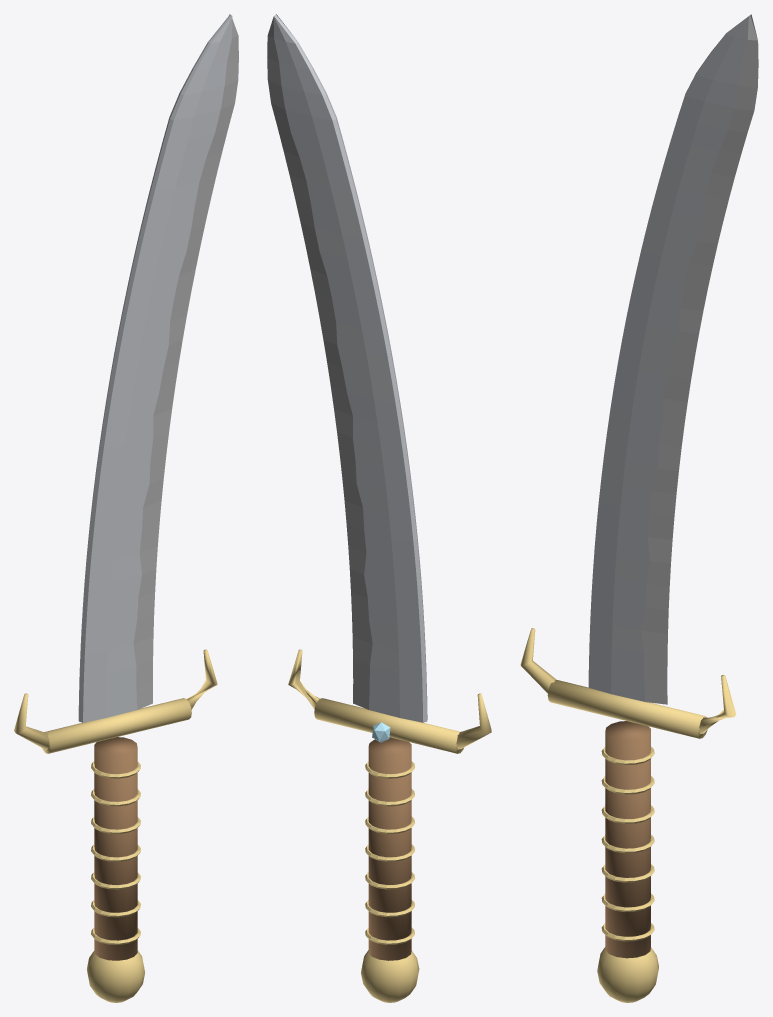
File: w_kurzklinge.glb
3 renders of one model, left to right at view 1: azimuth 30°, elevation 25°; view 2: azimuth 150°, elevation 25°; view 3: azimuth 330°, elevation 25°, orthographic. The views are drawn at different scales.
Visible parts, largest first — view 1: G_w_kurzklinge; view 2: G_w_kurzklinge; view 3: G_w_kurzklinge.
Boxes of the visible parts, left/top/right/bottom form: G_w_kurzklinge: left=14, top=14, right=238, bottom=1002; G_w_kurzklinge: left=267, top=14, right=491, bottom=1002; G_w_kurzklinge: left=520, top=14, right=758, bottom=1002.
Size of the model in its own units: 0.175 by 0.715 by 0.04.
